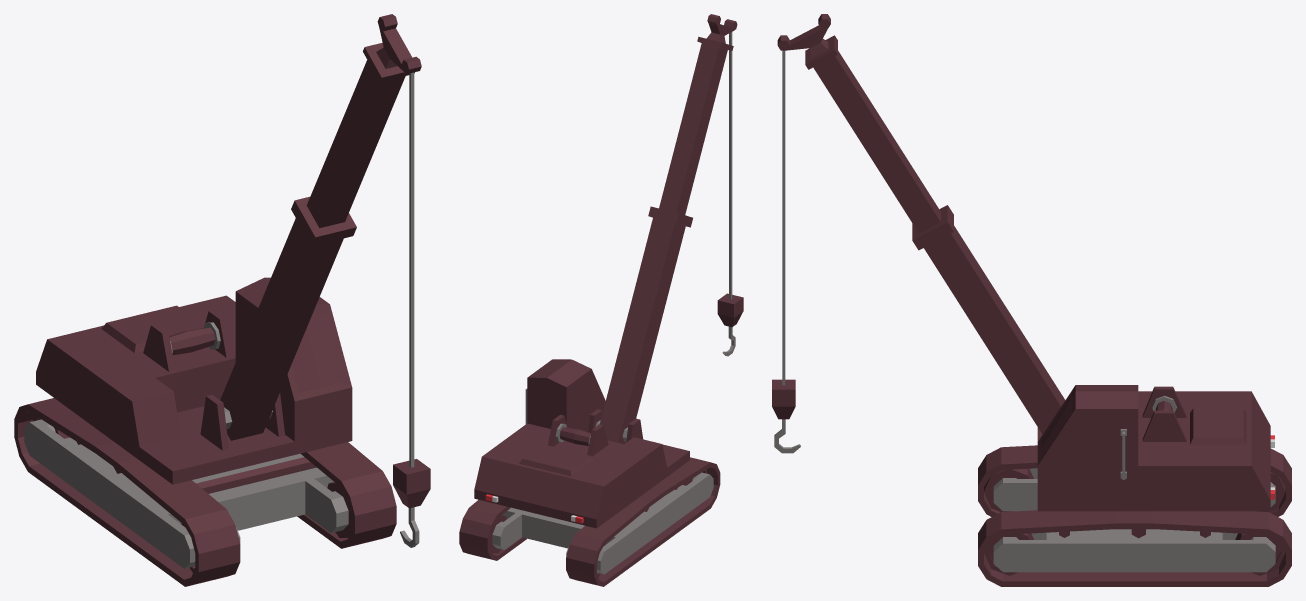
File: vehicles-crane-crawler.glb
3 views of the same model, side by side, from view 1: azimuth 30°, elevation 25°; view 2: azimuth 150°, elevation 25°; view 3: azimuth 270°, elevation 25° (orthographic). The views are drawn at different scales.
Visible parts, largest first — view 1: crane-crawler-base, crane-crawler-arm, crane-crawler-belt, crane-crawler-chassis, crane-crawler-hook, crane-crawler-wheel_TF; view 2: crane-crawler-base, crane-crawler-arm, crane-crawler-belt, crane-crawler-chassis, crane-crawler-hook; view 3: crane-crawler-base, crane-crawler-arm, crane-crawler-belt, crane-crawler-chassis, crane-crawler-hook, crane-crawler-wheel_F, crane-crawler-wheel_B.
Boxes of the visible parts, x1,y1,x2,y2 form: crane-crawler-base: [36, 277, 352, 484]; crane-crawler-arm: [220, 14, 421, 440]; crane-crawler-belt: [14, 398, 396, 586]; crane-crawler-chassis: [24, 419, 348, 568]; crane-crawler-hook: [393, 72, 430, 547]; crane-crawler-wheel_TF: [196, 457, 316, 493]; crane-crawler-base: [474, 359, 689, 528]; crane-crawler-arm: [595, 14, 737, 444]; crane-crawler-belt: [459, 457, 720, 586]; crane-crawler-chassis: [492, 472, 713, 574]; crane-crawler-hook: [717, 32, 743, 356]; crane-crawler-base: [1037, 385, 1274, 511]; crane-crawler-arm: [777, 14, 1065, 434]; crane-crawler-belt: [978, 445, 1291, 586]; crane-crawler-chassis: [993, 468, 1275, 572]; crane-crawler-hook: [772, 50, 800, 453]; crane-crawler-wheel_F: [984, 468, 1033, 575]; crane-crawler-wheel_B: [1235, 472, 1285, 575].
Size of what is drawn, in the model's own units: 3.1 by 9.29 by 8.27.
